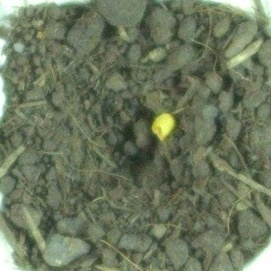chilli seed: (148, 111, 179, 142)
